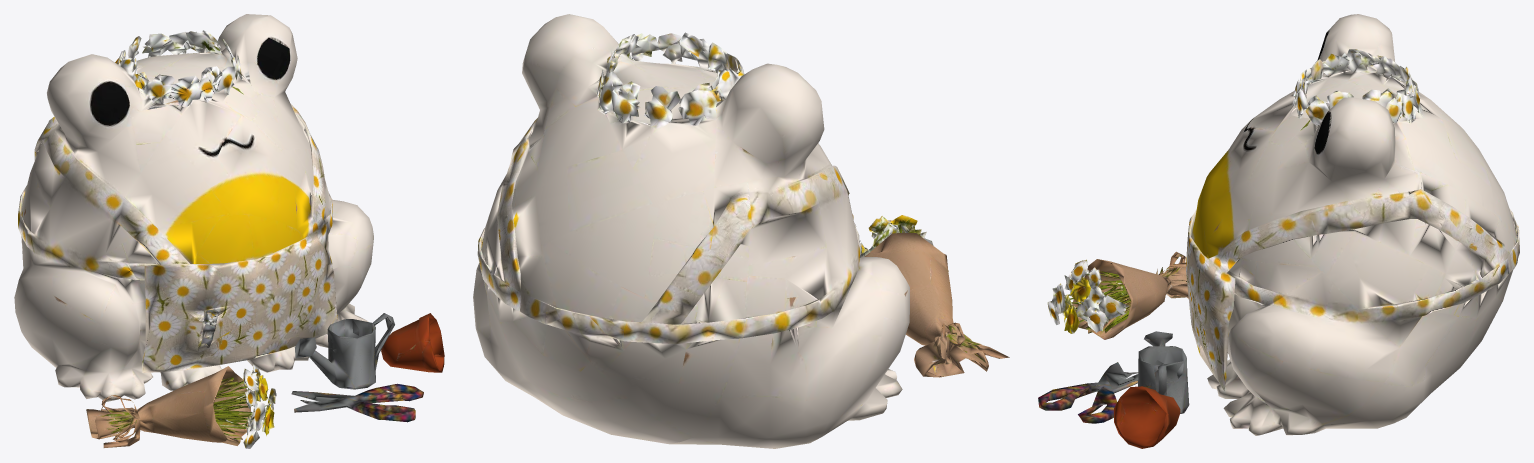
The model's file is fleuriste.glb.
3 views of the same model, side by side, from view 1: azimuth 30°, elevation 25°; view 2: azimuth 150°, elevation 25°; view 3: azimuth 270°, elevation 25° (orthographic). The views are drawn at different scales.
Parts seen in each view (by area): view 1: mesh_node; view 2: mesh_node; view 3: mesh_node.
Part boxes in pixels (x1=…): mesh_node: x1=14, y1=14, x2=444, y2=448; mesh_node: x1=473, y1=14, x2=1009, y2=448; mesh_node: x1=1038, y1=14, x2=1519, y2=448.
Bounding box in the file's own units: 1.65 × 1.35 × 1.9.
Materials: 1 (1 with a texture image).
